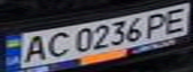0: (72, 25, 93, 54)
2: (90, 21, 115, 51)
3: (109, 19, 130, 47)
6: (124, 15, 151, 43)
A: (15, 33, 51, 64)
C: (39, 29, 72, 60)
E: (157, 6, 193, 35)
P: (139, 10, 175, 39)
